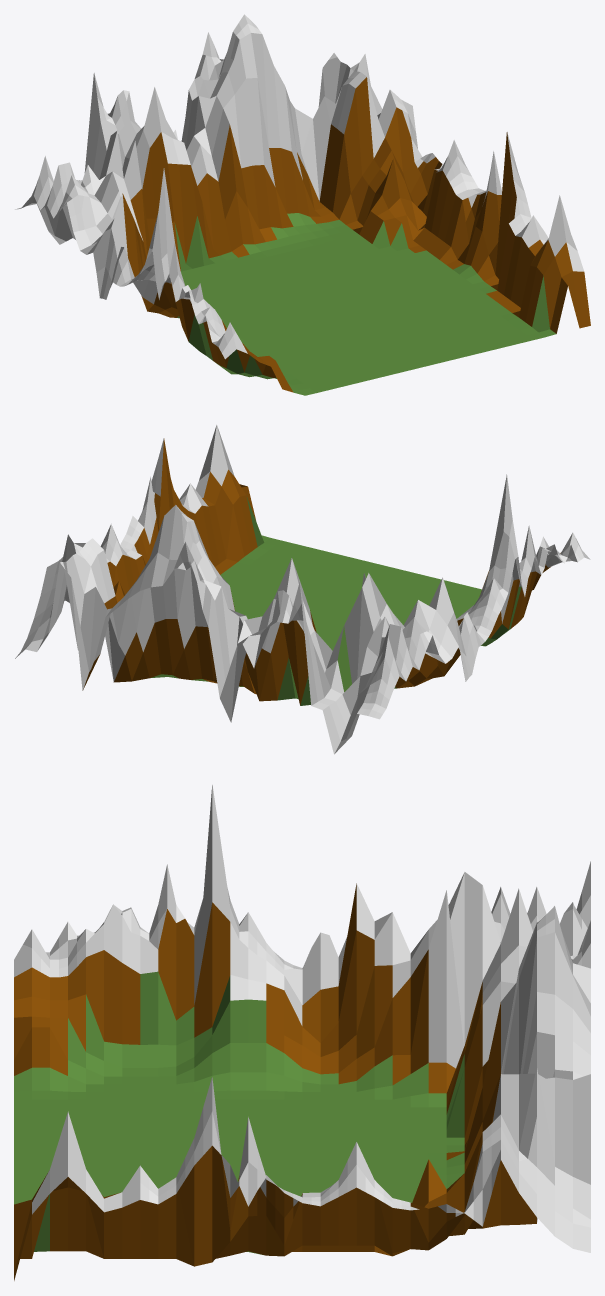
File: TerrainVertex.fbx
The picture shows the model from 3 angles, top to bottom: view 1: azimuth 30°, elevation 25°; view 2: azimuth 150°, elevation 25°; view 3: azimuth 270°, elevation 25°; orthographic projection. The views are drawn at different scales.
Visible parts, largest first — view 1: Terrain; view 2: Terrain; view 3: Terrain.
Boxes of the visible parts, box(x1,y1,x2,y2) form: Terrain: box(15, 14, 590, 395); Terrain: box(15, 424, 590, 754); Terrain: box(14, 784, 590, 1280).
Bounding box in the file's own units: 20257 × 10760 × 20257.
